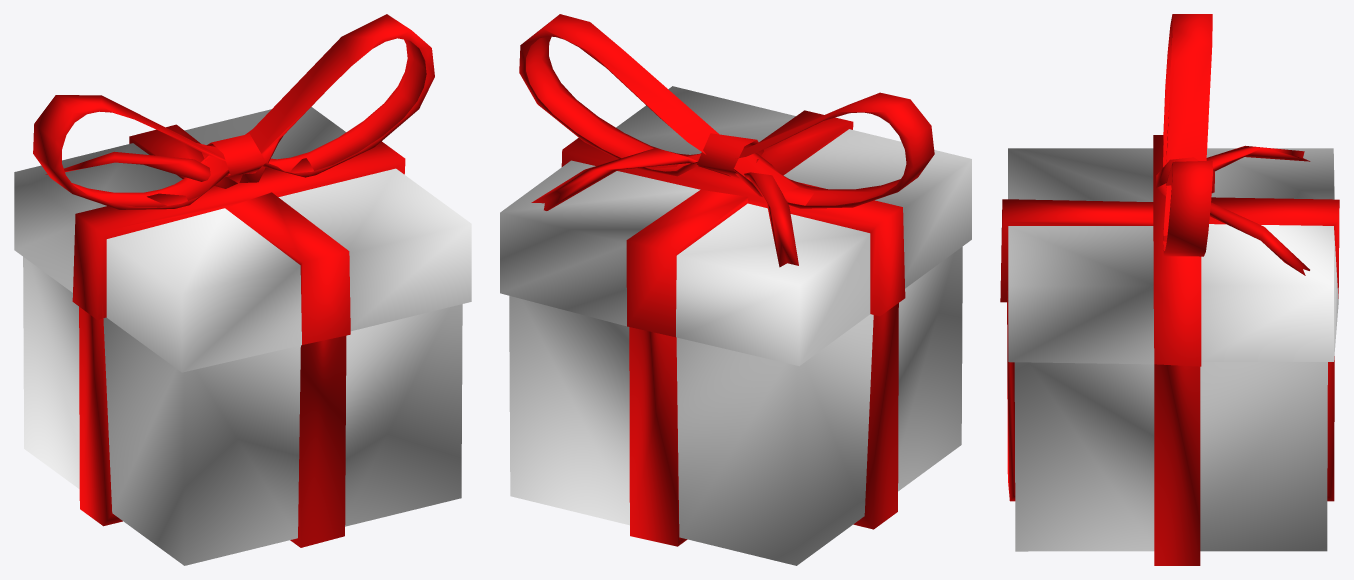
The model's file is WorldItem_CM_MediumPresent.fbx.
3 renders of one model, left to right at view 1: azimuth 30°, elevation 25°; view 2: azimuth 150°, elevation 25°; view 3: azimuth 270°, elevation 25°, orthographic. The views are drawn at different scales.
Visible parts, largest first — view 1: Cube; view 2: Cube; view 3: Cube.
Boxes of the visible parts, x1,y1,x2,y2 form: Cube: (14,14,471,565); Cube: (500,14,971,565); Cube: (1000,14,1339,565).
Bounding box in the file's own units: 0.2747 × 0.2844 × 0.2171.
